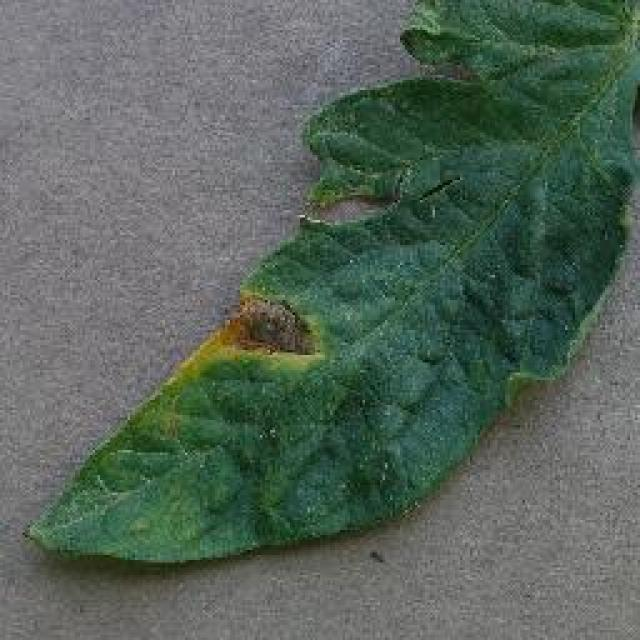Tomato___Early_blight: (22, 2, 638, 566)
